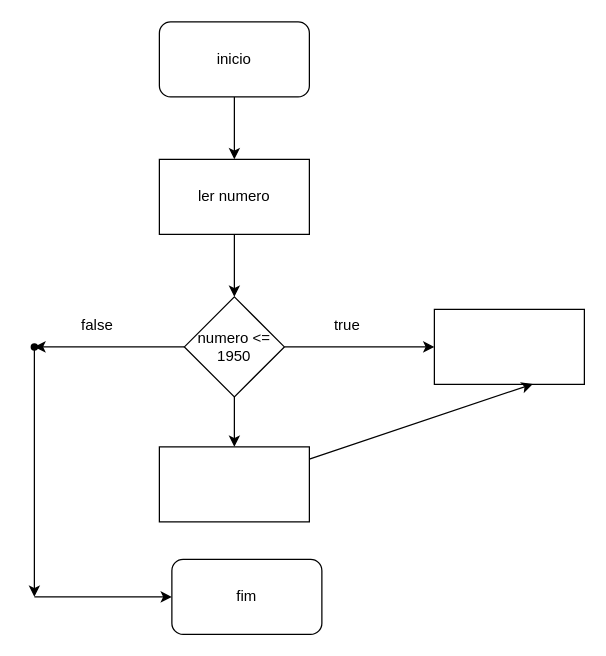
This 606x656 diagram has some shape labels left out. The centre of each missing label's shape, as x and y in pixels:
"escreva numero" goes at [508,346].
"numero ++" goes at [233,484].
